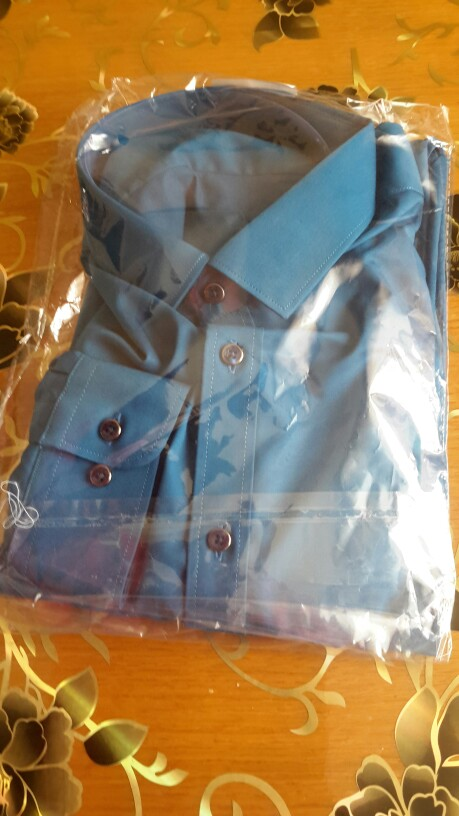shirts: (70, 115, 413, 632)
